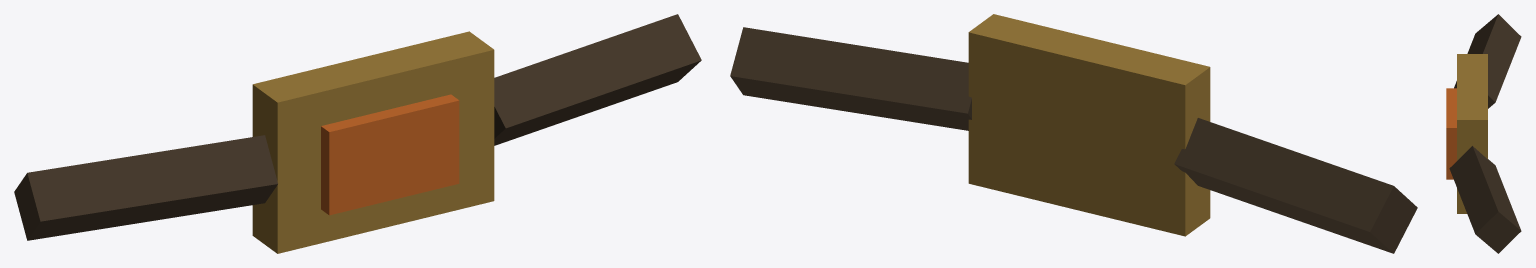
File: belt-buckle.glb
3 views of the same model, side by side, from view 1: azimuth 30°, elevation 25°; view 2: azimuth 150°, elevation 25°; view 3: azimuth 270°, elevation 25° (orthographic). The views are drawn at different scales.
Visible parts, largest first — view 1: m; view 2: m; view 3: m.
Part boxes in pixels (bbox=[...]): m: bbox=[14, 14, 701, 253]; m: bbox=[730, 14, 1417, 253]; m: bbox=[1446, 14, 1521, 253].
Bounding box in the file's own units: 0.18 × 0.0394 × 0.0284.
